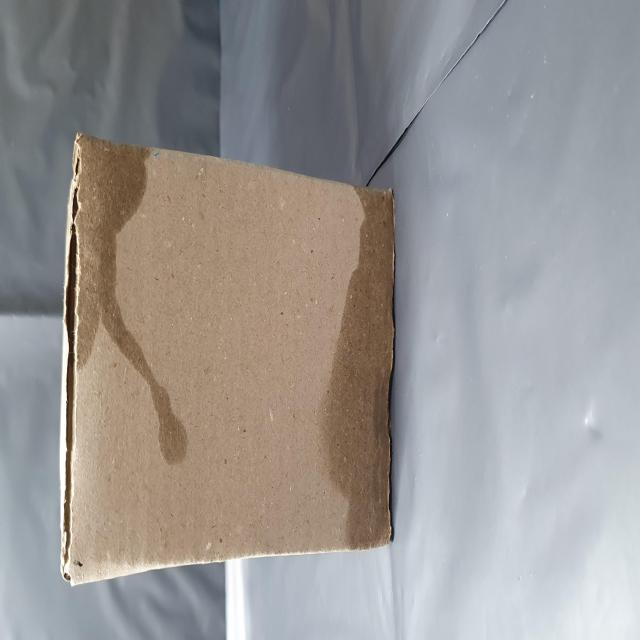wet: (136, 134, 282, 266), (51, 564, 256, 640)
